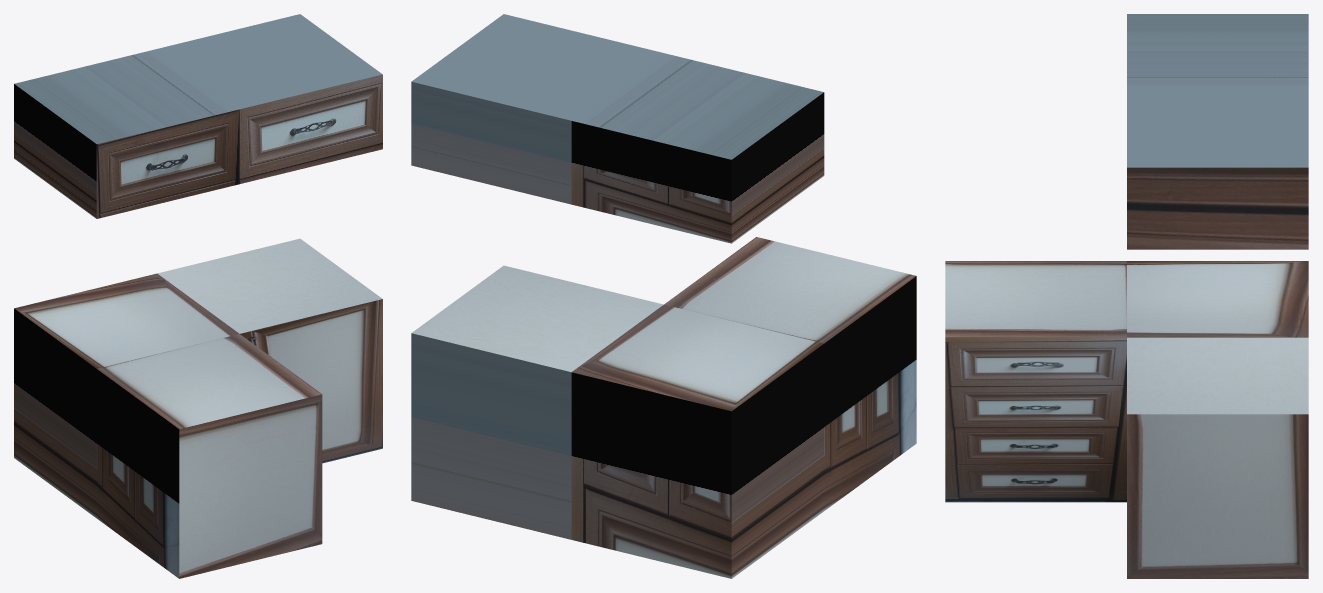
The model's file is MutfakDolaplar.fbx.
3 views of the same model, side by side, from view 1: azimuth 30°, elevation 25°; view 2: azimuth 150°, elevation 25°; view 3: azimuth 270°, elevation 25° (orthographic). The views are drawn at different scales.
Visible parts, largest first — view 1: Cube.001; view 2: Cube.001; view 3: Cube.001.
Part boxes in pixels (left/top/right/bottom): Cube.001: left=14, top=14, right=382, bottom=578; Cube.001: left=411, top=14, right=916, bottom=578; Cube.001: left=945, top=14, right=1308, bottom=578.
Bounding box in the file's own units: 400 × 500 × 400.
